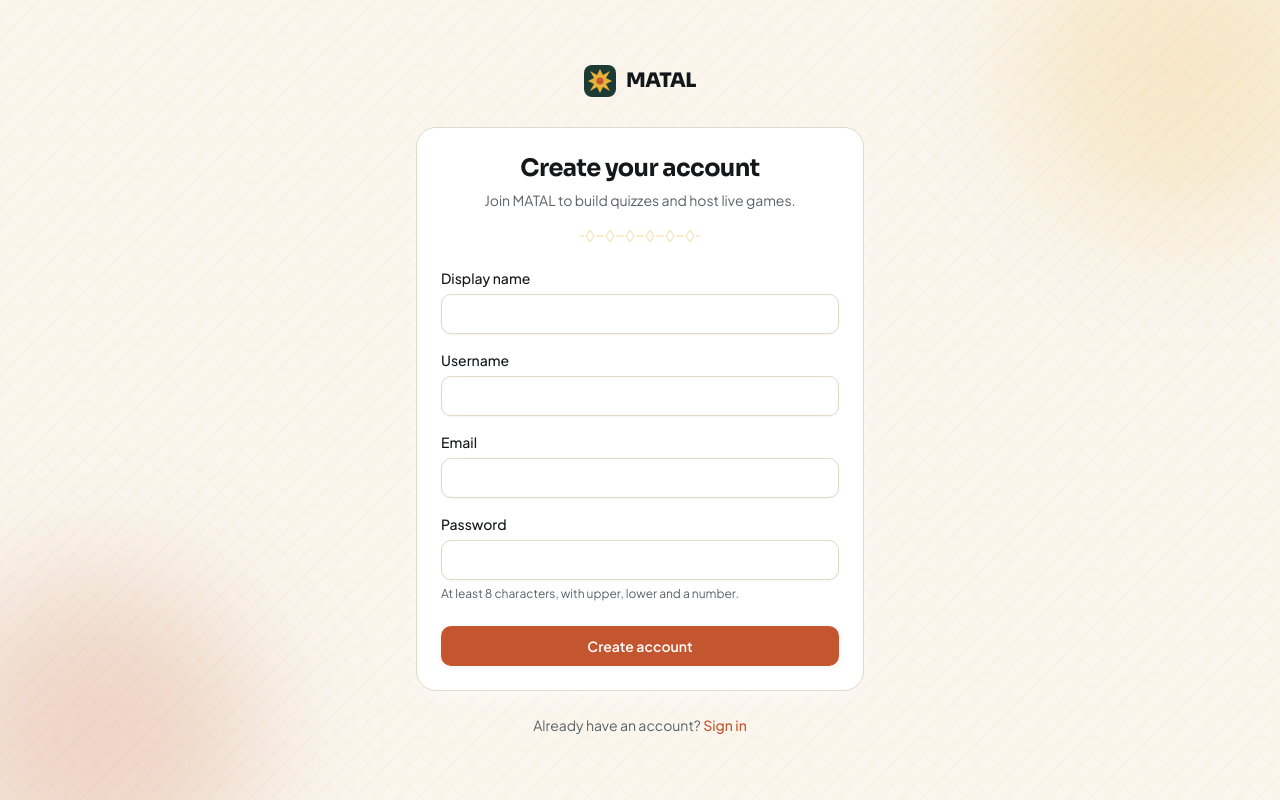
Scenario: RegisterPage › shows inline validation errors when submitting an empty form
Click the button "Create account" at (640, 646), box [441, 626, 839, 666]
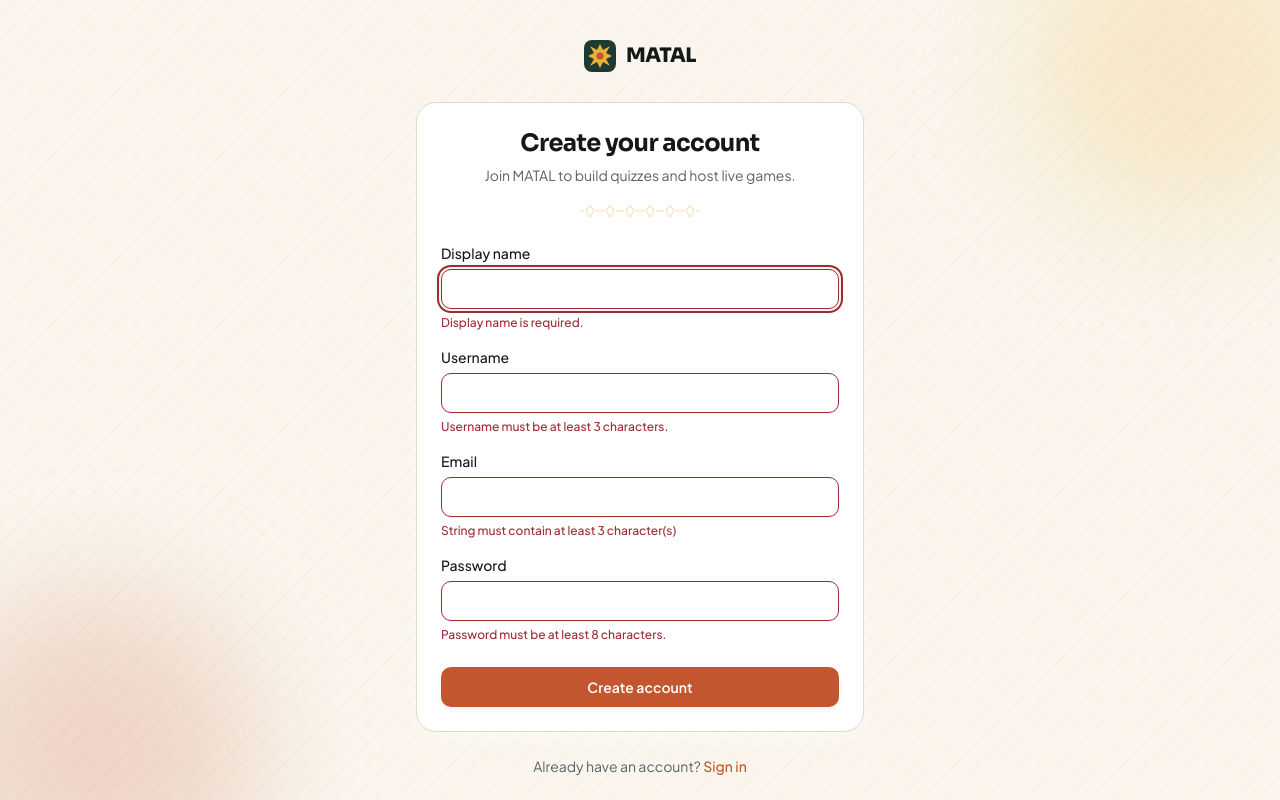
Result: the text "Display name is required." is shown at [441, 315, 584, 330]
Result: the text "Username must be at least 3 characters." is shown at [441, 419, 668, 434]
Result: the text "Password must be at least 8 characters." is shown at [441, 627, 666, 642]
